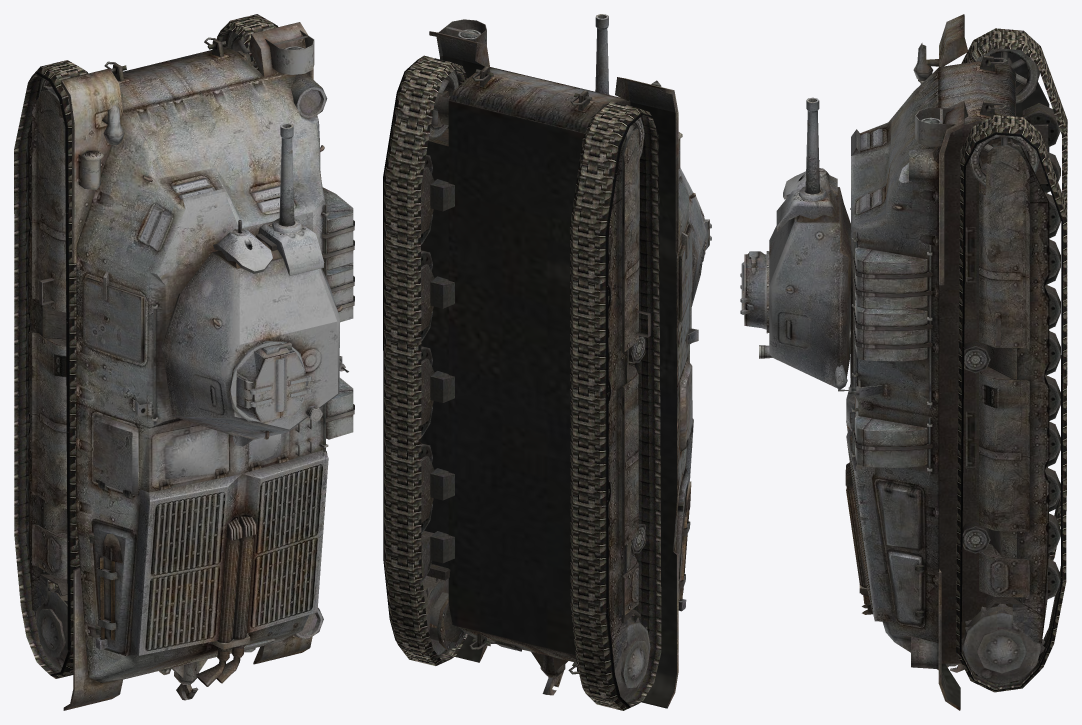
The picture shows the model from 3 angles, left to right: view 1: azimuth 30°, elevation 25°; view 2: azimuth 150°, elevation 25°; view 3: azimuth 270°, elevation 25°; orthographic projection. The views are drawn at different scales.
Visible parts, largest first — view 1: hull, turret_01, chassis_track_L, gun_01, chassis_wheel_L_11, chassis_track_R; view 2: hull, chassis_track_L, chassis_track_R, chassis_wheel_L_11, turret_01, gun_01, chassis_wheel_R_11, chassis_wheel_R_01; view 3: hull, turret_01, chassis_track_R, chassis_wheel_R_11, gun_01, chassis_track_L, chassis_wheel_L_01, chassis_wheel_R_01, chassis_wheel_L_02, chassis_wheel_R_12, chassis_wheel_R_13.
Part boxes in pixels (<box>): hull: <box>28,22,354,710</box>; turret_01: <box>161,233,342,446</box>; chassis_track_L: <box>14,60,88,678</box>; gun_01: <box>213,123,324,275</box>; chassis_wheel_L_11: <box>35,587,67,670</box>; chassis_track_R: <box>216,14,278,72</box>; hull: <box>421,19,698,708</box>; chassis_track_L: <box>570,101,661,710</box>; chassis_track_R: <box>383,55,467,665</box>; chassis_wheel_L_11: <box>614,617,650,701</box>; turret_01: <box>679,168,711,306</box>; gun_01: <box>595,14,609,94</box>; chassis_wheel_R_11: <box>423,575,448,655</box>; chassis_wheel_R_01: <box>429,70,458,138</box>; hull: <box>838,14,1049,710</box>; turret_01: <box>740,187,850,389</box>; chassis_track_R: <box>956,115,1066,692</box>; chassis_wheel_R_11: <box>961,603,1044,684</box>; gun_01: <box>776,97,837,231</box>; chassis_track_L: <box>961,28,1067,560</box>; chassis_wheel_L_01: <box>976,48,1039,103</box>; chassis_wheel_R_01: <box>969,134,1039,187</box>; chassis_wheel_L_02: <box>1020,103,1060,147</box>; chassis_wheel_R_12: <box>962,520,990,553</box>; chassis_wheel_R_13: <box>964,339,990,373</box>.
Bounding box in the file's own units: 2.13 × 5.37 × 2.64.
2 materials, 2 textured.
